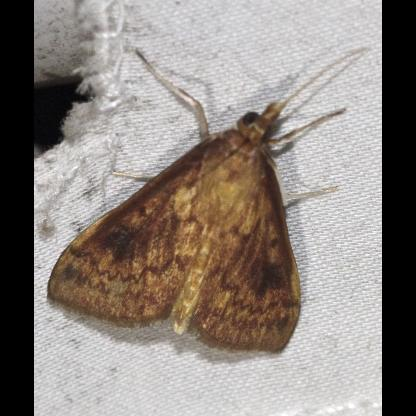Asian Corn Borer Moth: (44, 42, 350, 356)
